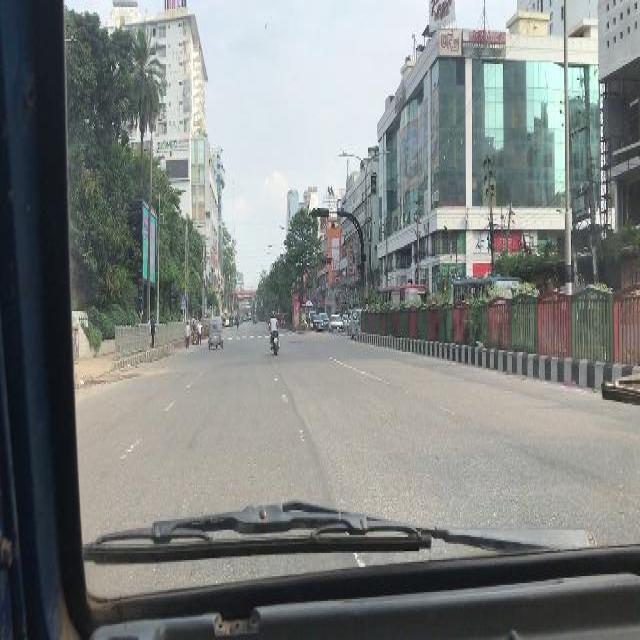bus: (452, 274, 524, 306), (379, 285, 426, 305)
car: (326, 313, 342, 331), (310, 311, 322, 329)
minivan: (348, 307, 362, 337)
motorbike: (268, 323, 280, 353)
rickshaw: (228, 314, 232, 326)
three wheelers -CNG-: (207, 316, 223, 346), (252, 312, 258, 321)
